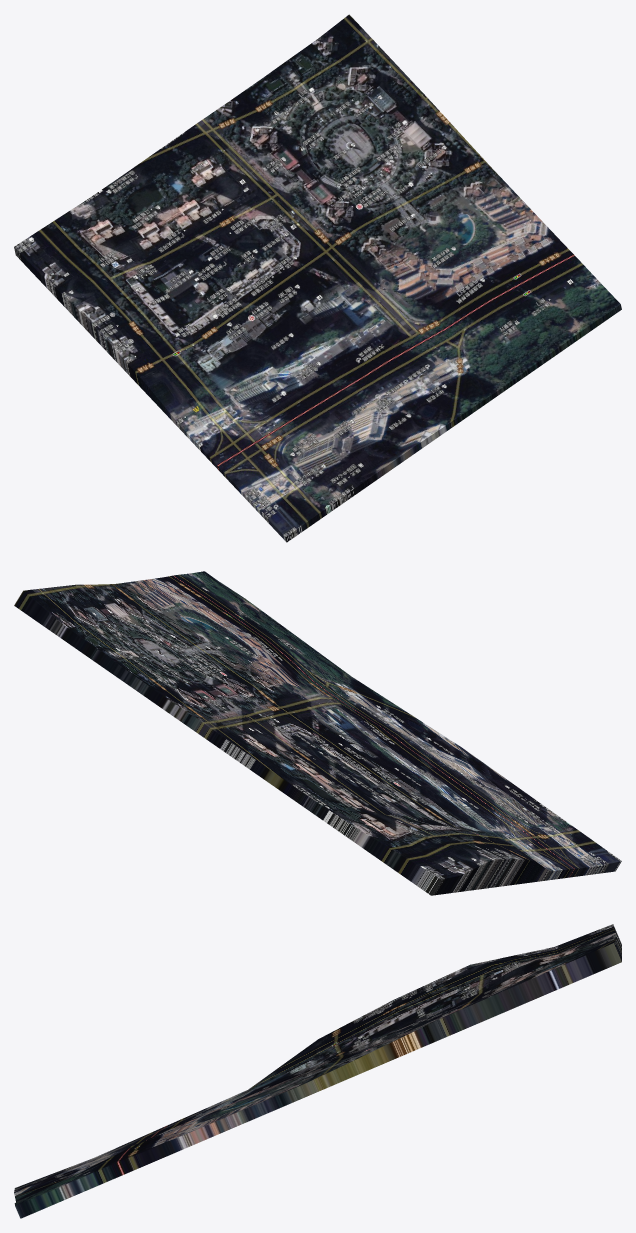
3 renders of one model, top to bottom at view 1: azimuth 30°, elevation 25°; view 2: azimuth 150°, elevation 25°; view 3: azimuth 270°, elevation 25°, orthographic. The views are drawn at different scales.
Visible parts, largest first — view 1: 0_11_25; view 2: 0_11_25; view 3: 0_11_25.
Part boxes in pixels (left/top/right/bottom): 0_11_25: left=14, top=14, right=621, bottom=542; 0_11_25: left=14, top=571, right=621, bottom=895; 0_11_25: left=14, top=924, right=621, bottom=1218.
Bounding box in the file's own units: 600 × 444 × 548.
Materials: 1 (1 with a texture image).
